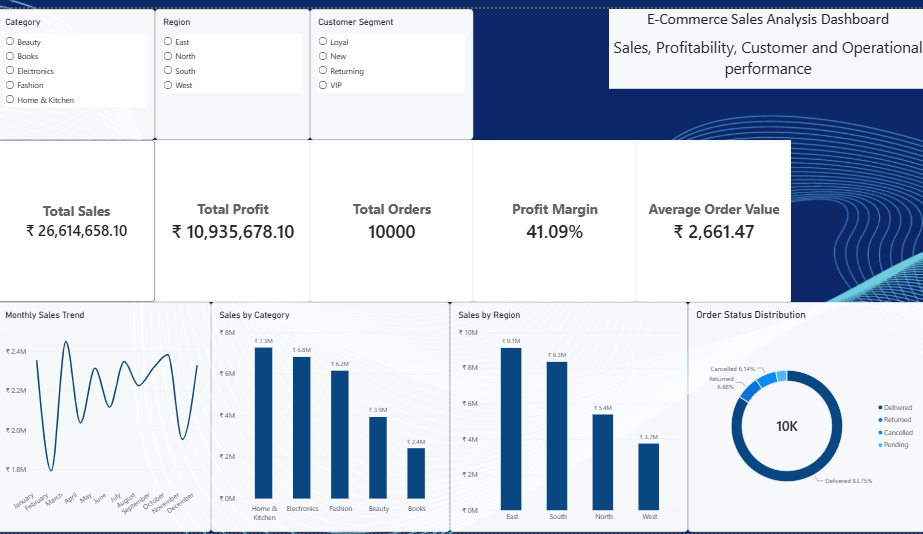

The dashboard page shown, as its layout file describes it:
{"tool":"powerbi","page":{"name":"Executive Overview","canvas":[1920,1080],"ordinal":0},"visuals":[{"type":"cardVisual","fields":{"Data":["Orders.Total Sales"]},"box":[0,270.5,326.2,334.5],"z":0},{"type":"cardVisual","fields":{"Data":["Orders.Total Profit"]},"box":[326.2,270.5,320,334.5],"z":1000},{"type":"cardVisual","fields":{"Data":["Orders.Total Orders"]},"box":[646.2,270.5,336.5,334.5],"z":2000},{"type":"cardVisual","fields":{"Data":["Orders.Average Order Value"]},"box":[1319.2,270.5,320,334.5],"z":3000},{"type":"cardVisual","fields":{"Data":["Orders.Profit Margin"]},"box":[982.7,270.5,336.5,334.5],"z":4000},{"type":"lineChart","title":"Monthly Sales Trend","fields":{"Category":["Orders.Order Date.Variation.Date Hierarchy.Month"],"Y":["Orders.Total Sales"]},"box":[0,604.9,441.8,474.8],"z":5000},{"type":"clusteredColumnChart","title":"Sales by Category","fields":{"Category":["Orders.Category"],"Y":["Orders.Total Sales"]},"box":[441.8,604.9,493.4,474.8],"z":6000},{"type":"clusteredColumnChart","title":"Sales by Region","fields":{"Category":["Orders.Region"],"Y":["Orders.Total Sales"]},"box":[935.2,604.9,491.4,474.8],"z":7000},{"type":"donutChart","title":"Order Status Distribution","fields":{"Category":["Orders.Order Status"],"Y":["Orders.Total Orders"]},"box":[1426.6,604.9,491.4,474.8],"z":8000},{"type":"listSlicer","fields":{"Values":["Orders.Category"]},"box":[0,0,326.2,270.5],"z":9000},{"type":"listSlicer","fields":{"Values":["Orders.Region"]},"box":[326,0,320,270],"z":10000},{"type":"listSlicer","fields":{"Values":["Orders.Customer Segment"]},"box":[646,0,337,270],"z":11000},{"type":"textbox","box":[1263.5,0,656.5,55.7],"z":12000},{"type":"textbox","box":[1263.5,55.7,656.5,109.4],"z":13000}]}

Visuals, with their boxes in screenshot pixels (x1, y1, x2, y2), scaled from the page's 1920x1080 canvas onto the 923x534 screenshot:
cardVisual - Orders.Total Sales: BBox(0, 134, 157, 299)
cardVisual - Orders.Total Profit: BBox(157, 134, 311, 299)
cardVisual - Orders.Total Orders: BBox(311, 134, 472, 299)
cardVisual - Orders.Average Order Value: BBox(634, 134, 788, 299)
cardVisual - Orders.Profit Margin: BBox(472, 134, 634, 299)
"Monthly Sales Trend" lineChart: BBox(0, 299, 212, 533)
"Sales by Category" clusteredColumnChart: BBox(212, 299, 450, 533)
"Sales by Region" clusteredColumnChart: BBox(450, 299, 686, 533)
"Order Status Distribution" donutChart: BBox(686, 299, 922, 533)
listSlicer - Orders.Category: BBox(0, 0, 157, 134)
listSlicer - Orders.Region: BBox(157, 0, 311, 134)
listSlicer - Orders.Customer Segment: BBox(311, 0, 473, 134)
textbox: BBox(607, 0, 922, 28)
textbox: BBox(607, 28, 922, 82)
